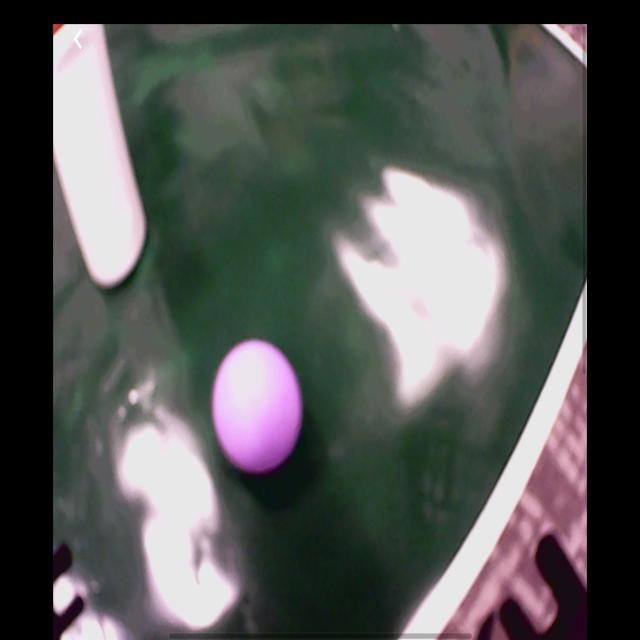ball: (213, 341, 304, 474)
